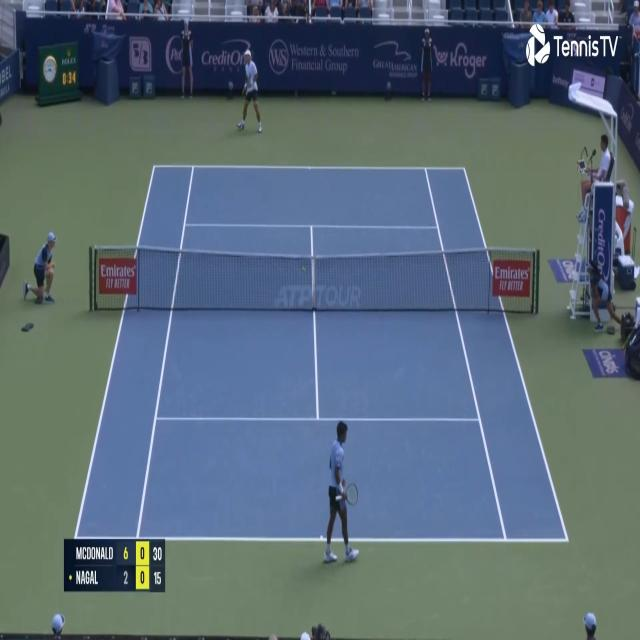tennis-player: (320, 418, 359, 570), (235, 44, 264, 136)
